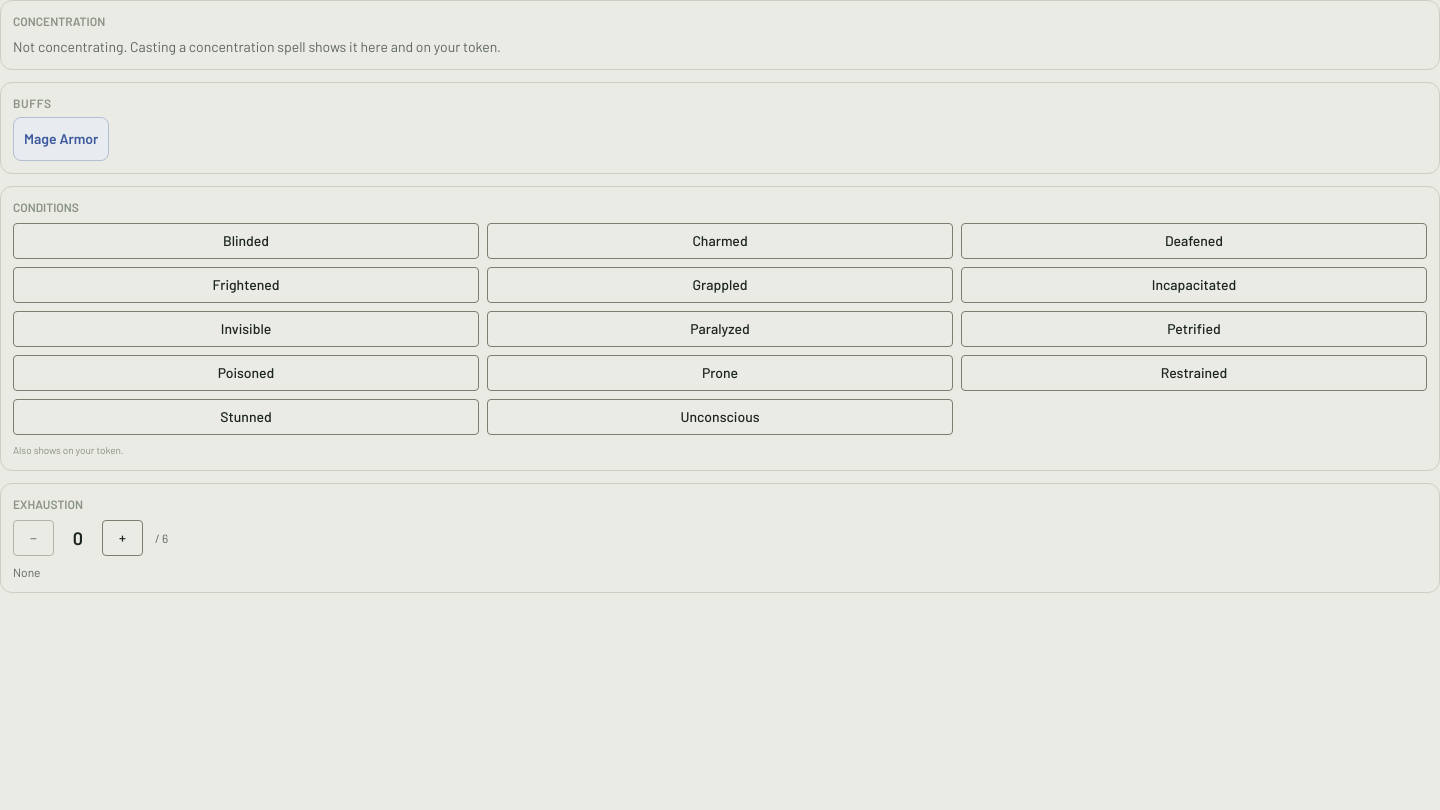
Test: EffectsTab › steps exhaustion and shows rules text
Click the button named "increase exhaustion" at (122,538), box 102,520 -> 143,556
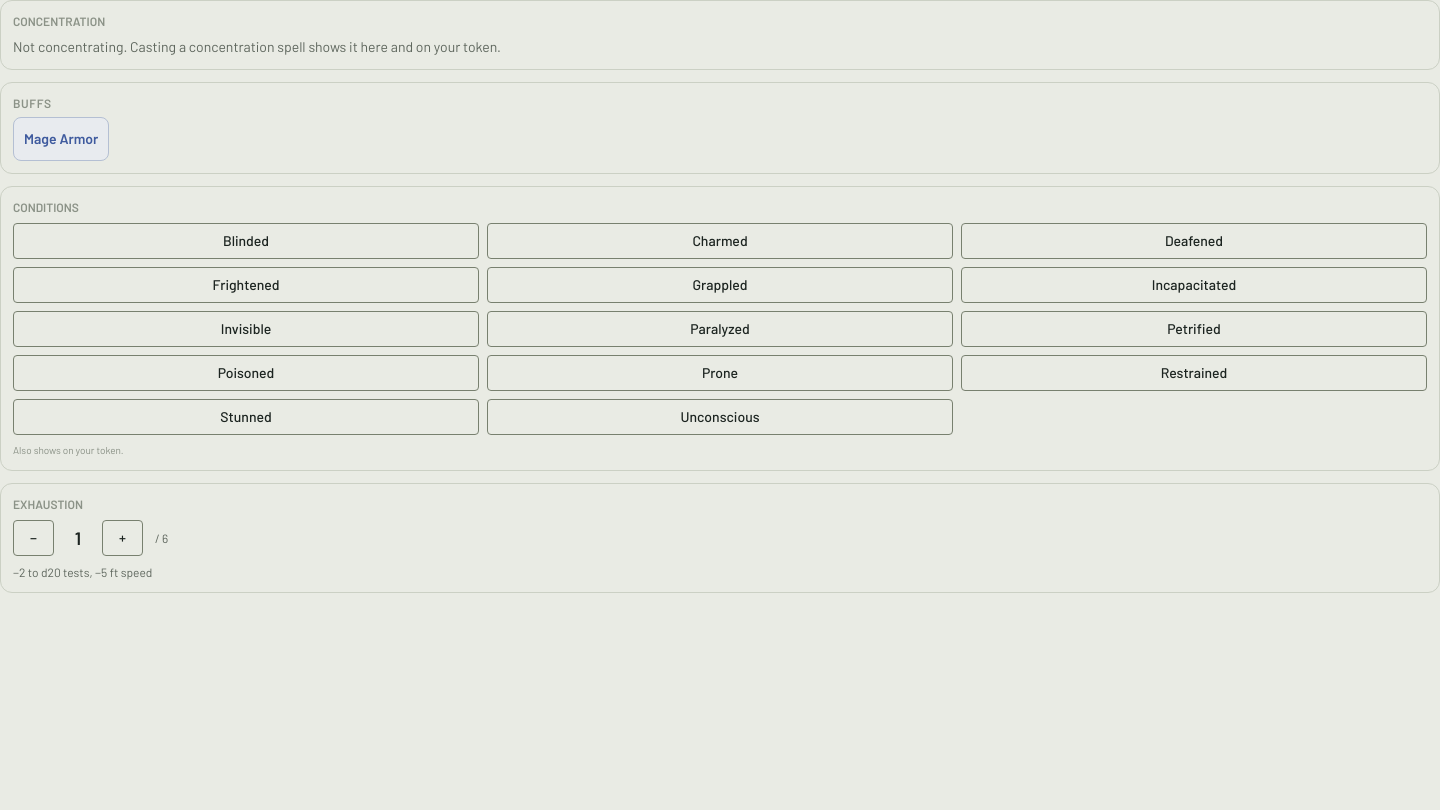
Expected: the text "−2 to d20 tests, −5 ft speed" is shown, 13,565 -> 152,579
